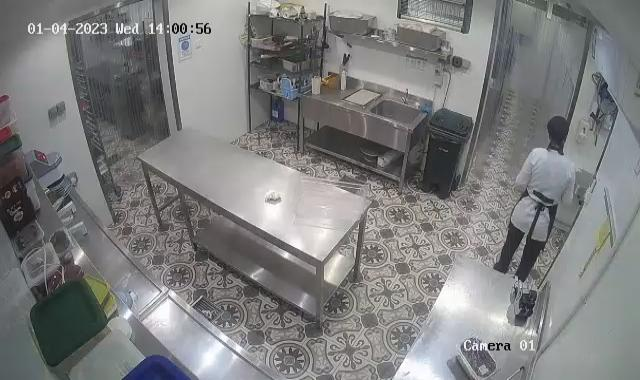no_hairnet: (546, 113, 569, 150)
